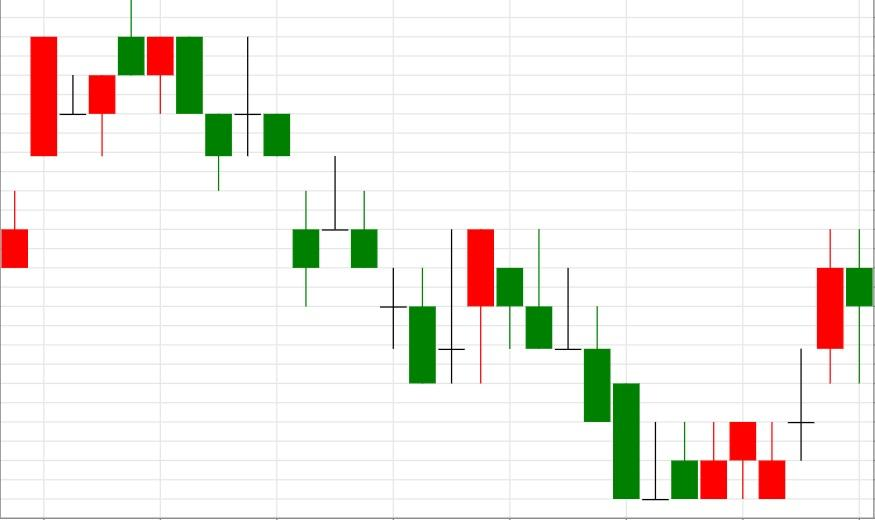bearish_engulfing_fall: (0, 0, 203, 268)
